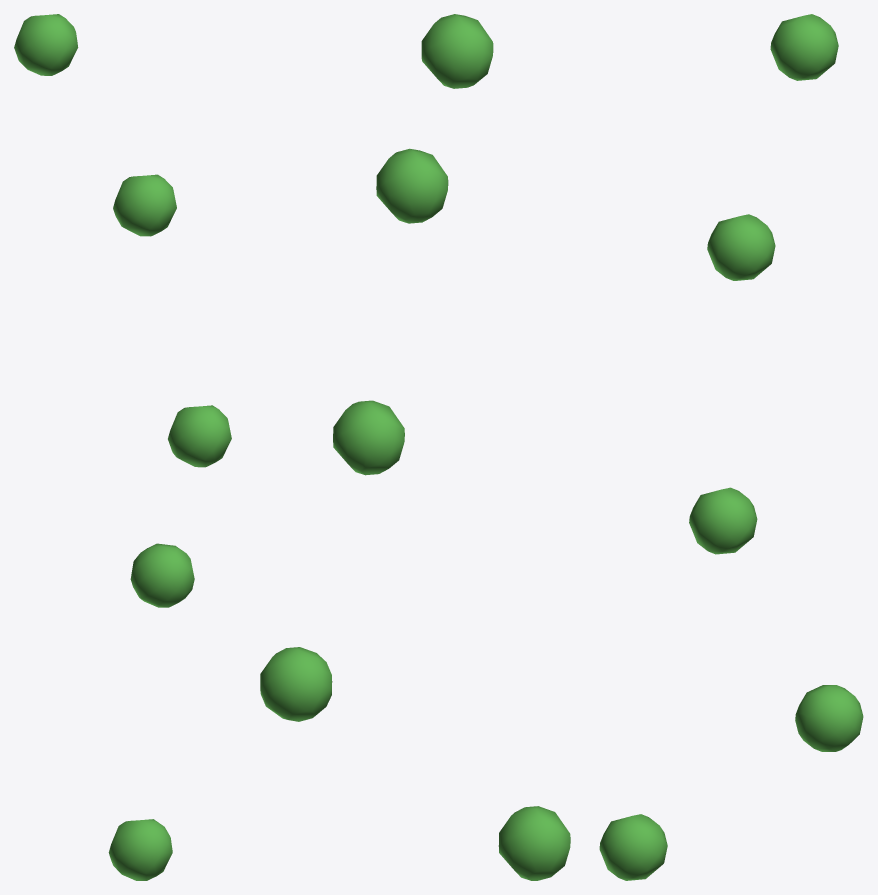
Rendered from linfatico-lateral-superior-jugular-node-l.glb.
3 renders of one model, left to right at view 1: azimuth 30°, elevation 25°; view 2: azimuth 150°, elevation 25°; view 3: azimuth 270°, elevation 25°, orthographic. The views are drawn at different scales.
Parts seen in each view (by area): view 1: Lateral superior jugular node.l; view 2: Lateral superior jugular node.l; view 3: Lateral superior jugular node.l.
Boxes of the visible parts, x1,y1,x2,y2 form: Lateral superior jugular node.l: (14, 14, 231, 880); Lateral superior jugular node.l: (260, 14, 570, 880); Lateral superior jugular node.l: (599, 14, 863, 880).
Size of the model in its own units: 0.00845 by 0.0355 by 0.00993.
